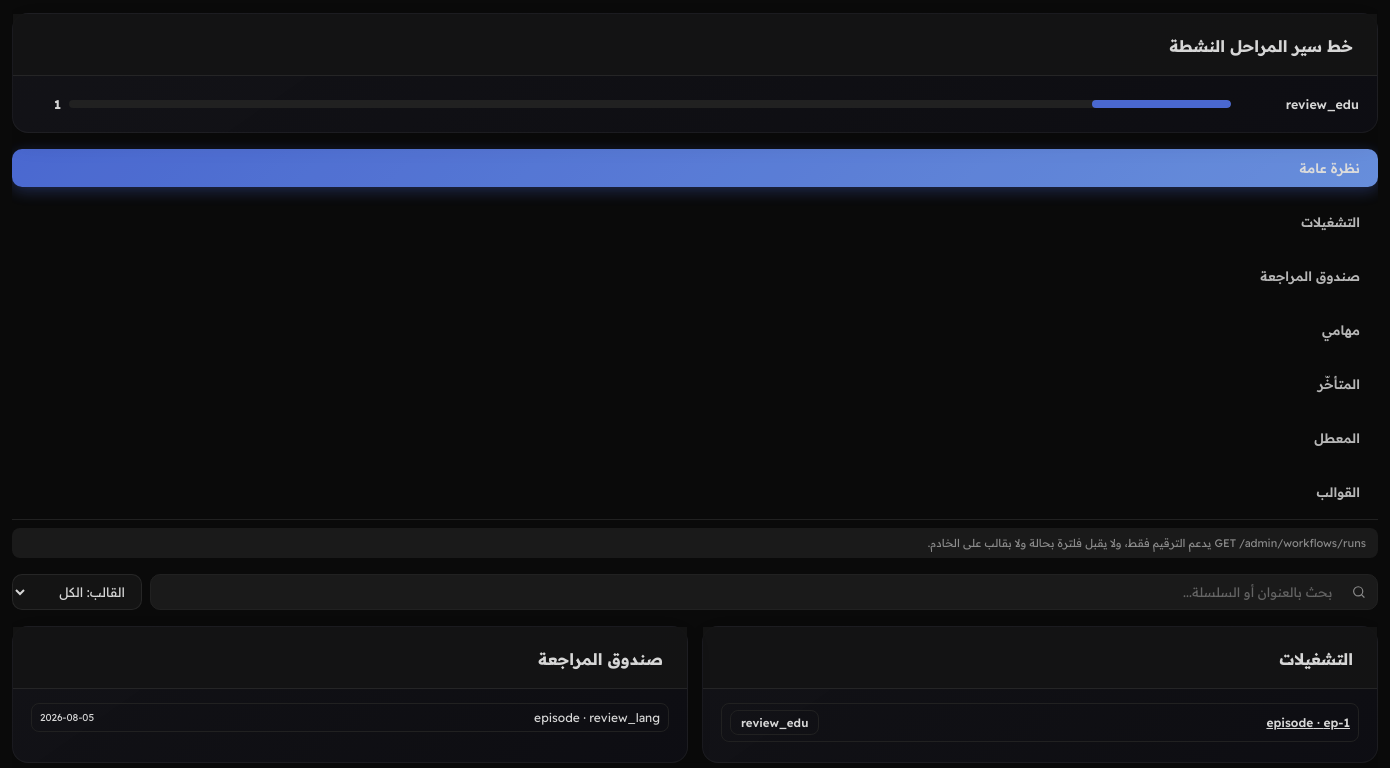
Test: WorkflowPage › the runs list is paged on the server, and says filtering is what it lacks
This screenshot has width=1390, height=768.
(page scrolled)
Expected: the text "ولا يقبل فلترة بحالة ولا بقالب" is shown, left=928, top=536, right=1366, bottom=550
Click the tab "المتأخّر" at (1339, 384), box left=12, top=365, right=1378, bottom=403
(page scrolled)
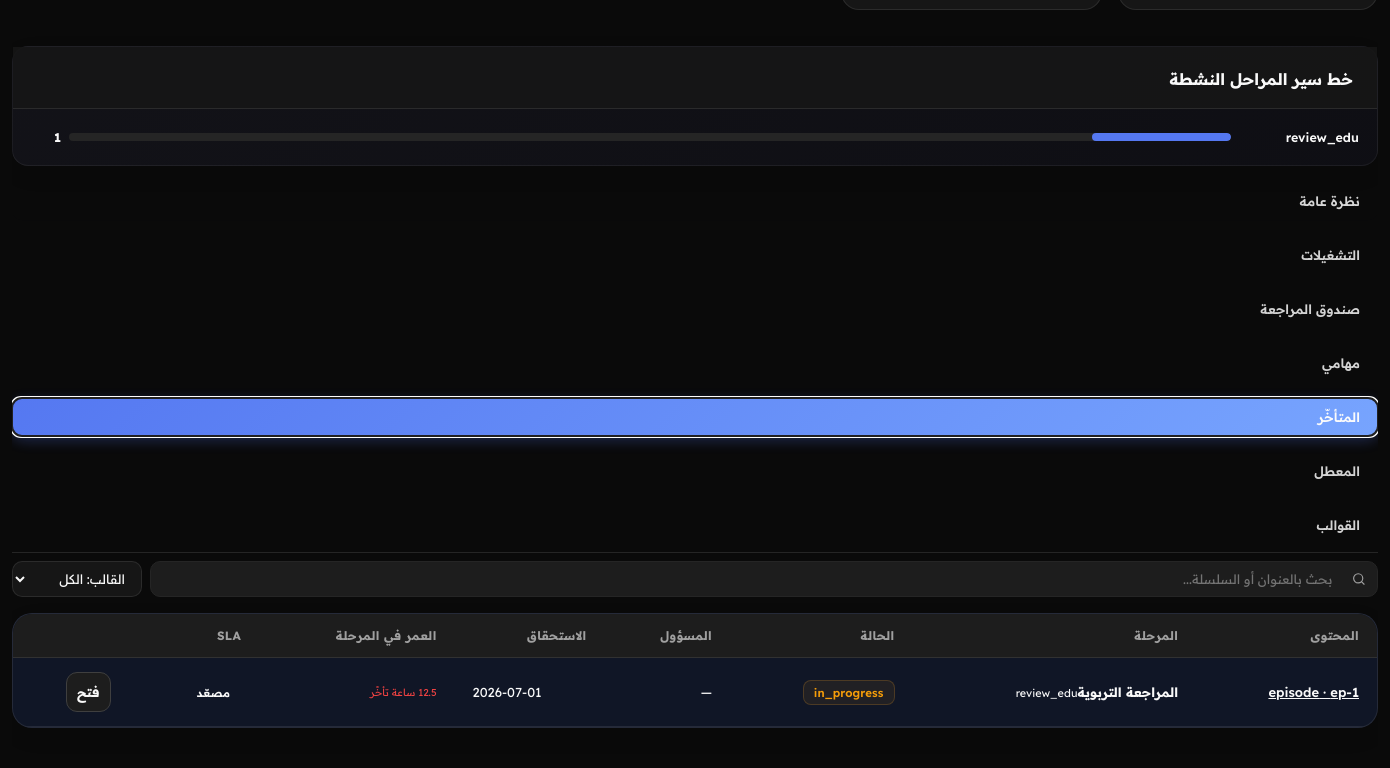
Expected: the text "GET /admin/workflows/runs" is gone
